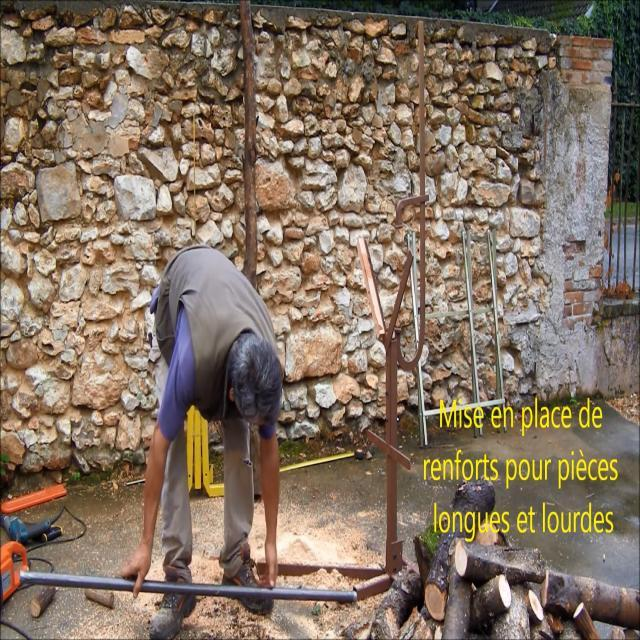Chainsaw: (0, 503, 68, 640)
